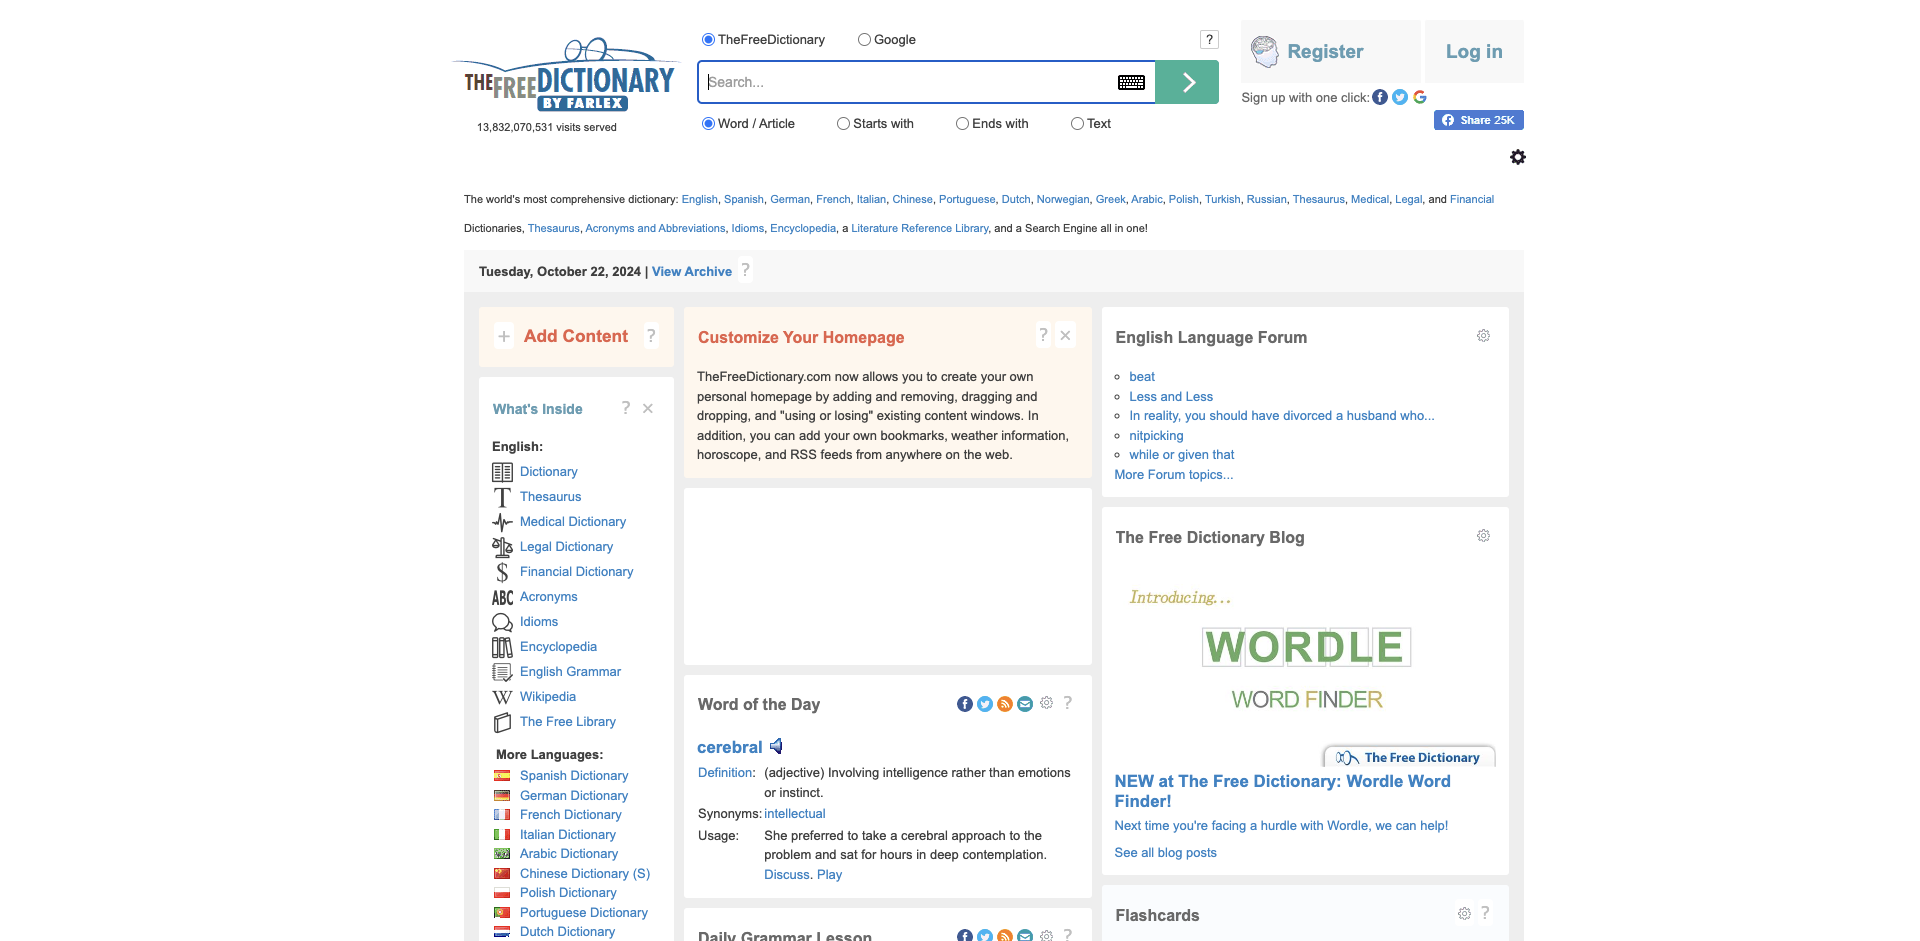button: (1242, 20, 1422, 83), (1425, 20, 1524, 83), (638, 395, 658, 421), (1056, 321, 1075, 348), (1037, 689, 1056, 716), (1474, 321, 1493, 348), (1474, 521, 1493, 548), (1455, 899, 1473, 926), (618, 395, 634, 421), (1036, 321, 1052, 348), (738, 256, 753, 283), (644, 322, 659, 349), (1060, 689, 1075, 716), (1478, 899, 1493, 926), (1037, 923, 1056, 941), (1060, 923, 1075, 941)
icon: (770, 735, 782, 754)
input: (697, 60, 1220, 104), (1155, 60, 1220, 104)
label: (718, 32, 825, 47), (718, 116, 795, 131), (853, 116, 913, 131), (972, 116, 1029, 131), (874, 32, 916, 47), (1087, 116, 1111, 131)
link: (1114, 755, 1496, 836), (451, 37, 682, 111), (1380, 143, 1524, 176), (1129, 408, 1435, 423), (497, 904, 648, 920), (497, 866, 650, 881), (492, 564, 633, 578), (492, 713, 616, 729), (492, 513, 626, 528), (497, 768, 628, 783), (497, 788, 628, 803), (497, 885, 617, 901), (497, 924, 616, 940), (492, 664, 621, 679), (1434, 109, 1524, 130), (497, 807, 622, 822), (492, 539, 613, 554), (497, 847, 618, 861), (1114, 467, 1234, 482), (497, 827, 616, 842), (585, 222, 725, 234), (851, 222, 988, 234), (492, 638, 598, 653), (1129, 447, 1234, 462), (1114, 845, 1217, 860), (492, 463, 578, 479), (492, 588, 578, 604), (492, 489, 582, 504), (697, 738, 763, 757), (492, 689, 577, 703), (1129, 388, 1213, 403), (651, 265, 732, 279), (1412, 6, 1491, 18), (492, 614, 558, 629), (764, 806, 825, 821), (770, 222, 836, 234), (1129, 428, 1184, 442), (698, 766, 752, 780), (1422, 78, 1483, 91), (764, 866, 809, 882), (1424, 115, 1480, 127), (528, 222, 580, 234), (939, 194, 996, 205), (1037, 194, 1090, 205), (1293, 194, 1344, 205), (1450, 194, 1494, 205), (724, 194, 764, 205), (770, 194, 811, 205), (893, 194, 933, 205), (1247, 194, 1287, 205), (1435, 97, 1469, 109), (1351, 194, 1389, 205), (817, 866, 842, 882), (1129, 369, 1155, 385), (731, 222, 764, 234), (1118, 75, 1145, 89), (682, 194, 718, 205), (1205, 194, 1240, 205), (1200, 29, 1220, 49), (817, 194, 851, 205), (1131, 194, 1163, 205), (857, 194, 887, 205), (1002, 194, 1031, 205), (1096, 194, 1125, 205), (1169, 194, 1199, 205), (1396, 194, 1423, 205), (1371, 88, 1389, 104), (1392, 88, 1408, 104), (1412, 88, 1428, 104), (1510, 149, 1526, 165), (958, 696, 973, 712), (977, 696, 993, 712), (997, 696, 1013, 712), (1018, 696, 1033, 712), (1441, 25, 1463, 36), (958, 929, 973, 941), (977, 929, 993, 941), (997, 929, 1013, 941), (1018, 929, 1033, 941)
radio: (702, 33, 715, 47), (702, 116, 715, 130), (956, 116, 970, 130), (858, 33, 871, 47), (838, 116, 850, 130), (1071, 116, 1084, 130)
